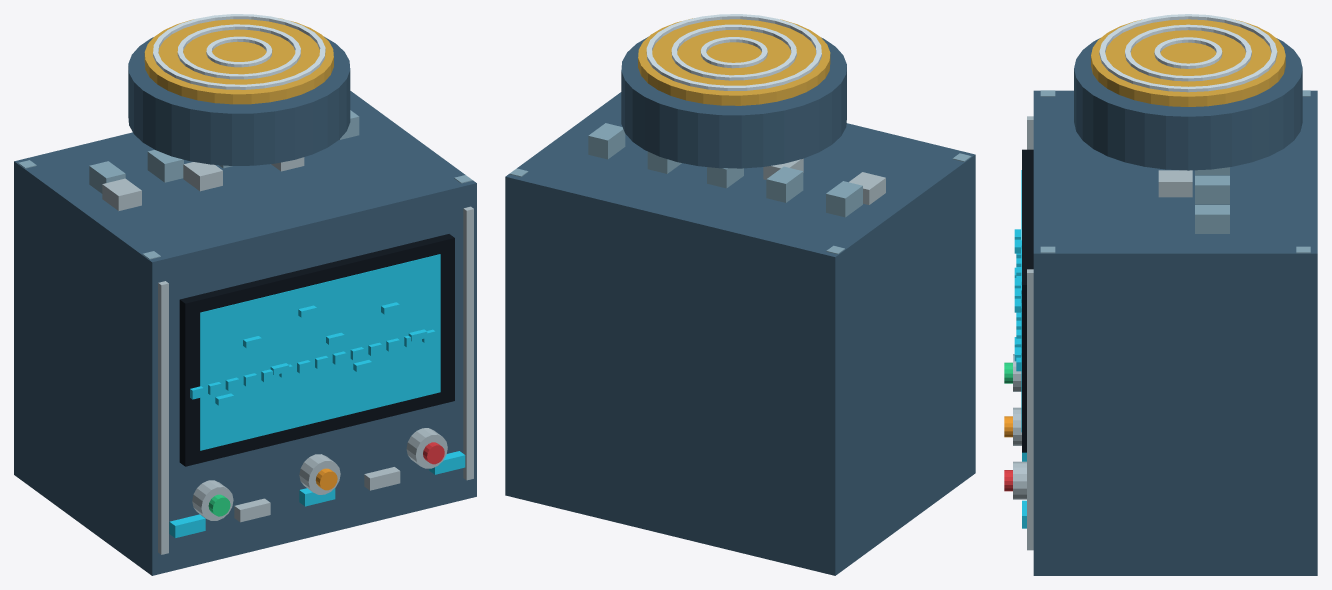
Rendered from 35_L72_QuartzCrystalMicrobalance.fbx.
3 renders of one model, left to right at view 1: azimuth 30°, elevation 25°; view 2: azimuth 150°, elevation 25°; view 3: azimuth 270°, elevation 25°, orthographic. The views are drawn at different scales.
Parts seen in each view (by area): view 1: QuartzCrystalMicrobalance; view 2: QuartzCrystalMicrobalance; view 3: QuartzCrystalMicrobalance.
Boxes of the visible parts, x1,y1,x2,y2 form: QuartzCrystalMicrobalance: [14, 14, 476, 575]; QuartzCrystalMicrobalance: [505, 14, 975, 575]; QuartzCrystalMicrobalance: [1004, 14, 1317, 575].
Size of the model in its own units: 91 by 115 by 73.93.
